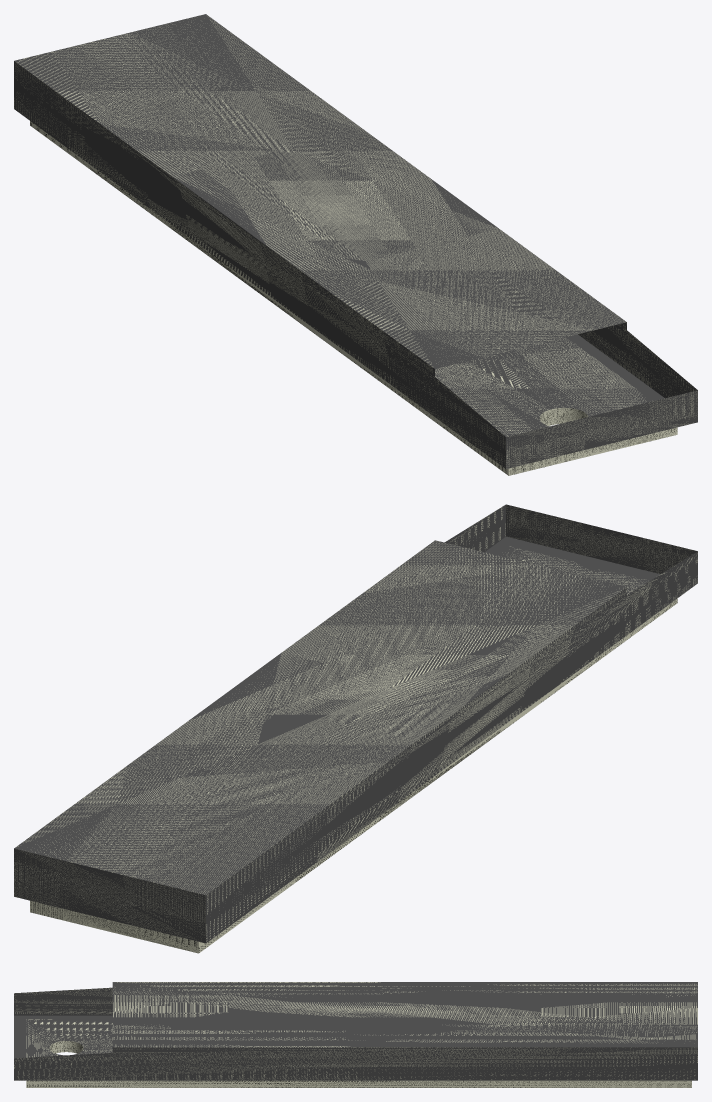
File: original-7.obj
3 views of the same model, one above another, from view 1: azimuth 30°, elevation 25°; view 2: azimuth 150°, elevation 25°; view 3: azimuth 270°, elevation 25° (orthographic). The views are drawn at different scales.
Parts seen in each view (by area): view 1: Group7/mesh9/mesh9-geometry#mesh9-geometry; view 2: Group7/mesh9/mesh9-geometry#mesh9-geometry; view 3: Group7/mesh9/mesh9-geometry#mesh9-geometry.
Boxes of the visible parts, left/top/right/bottom form: Group7/mesh9/mesh9-geometry#mesh9-geometry: left=14, top=14, right=697, bottom=475; Group7/mesh9/mesh9-geometry#mesh9-geometry: left=14, top=504, right=697, bottom=953; Group7/mesh9/mesh9-geometry#mesh9-geometry: left=14, top=982, right=697, bottom=1087.
Size of the model in its own units: 0.4024 by 0.1288 by 1.79.
